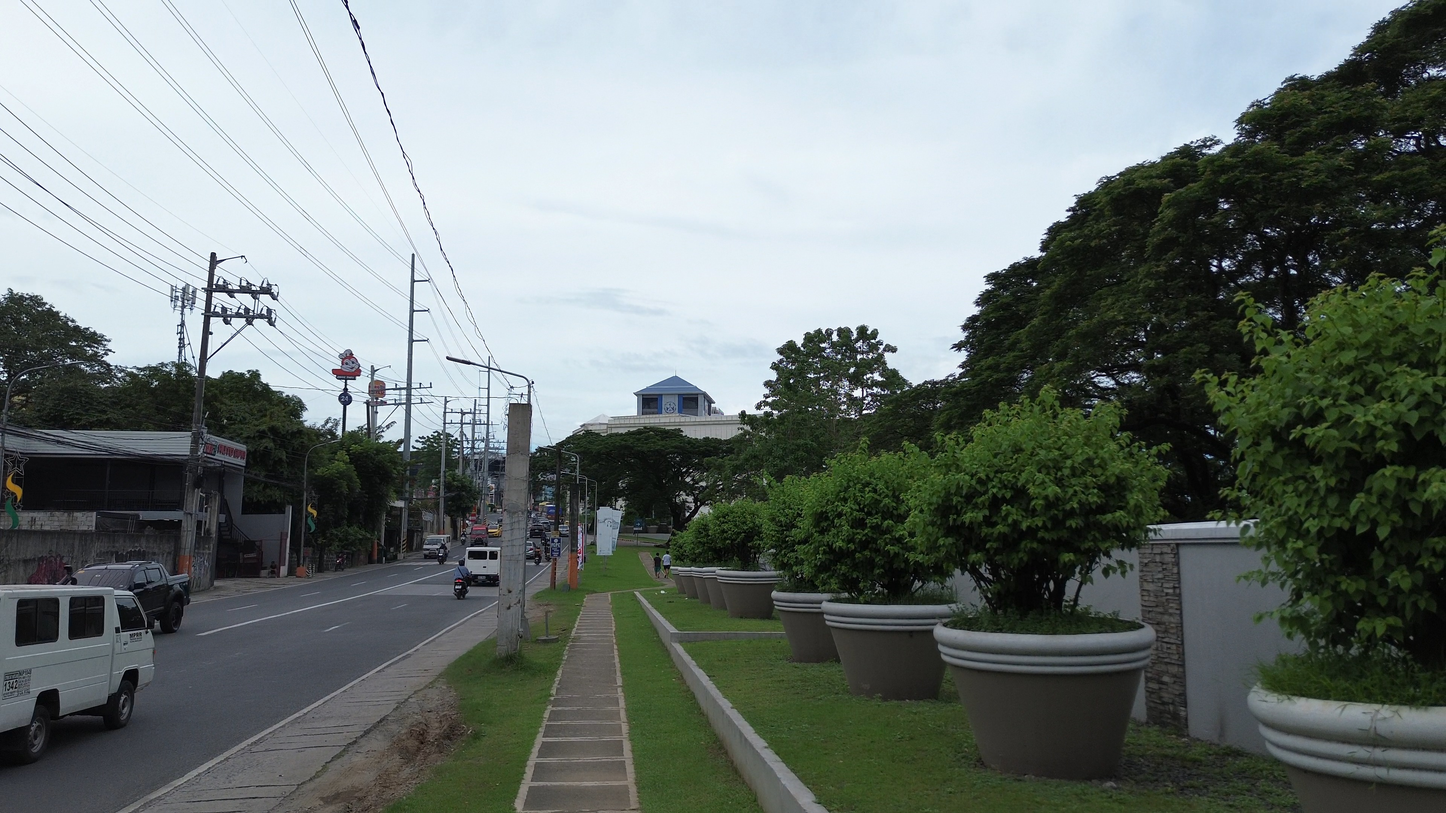motorcycle: (454, 577, 467, 600)
vehicle: (0, 586, 154, 763), (74, 561, 190, 633), (465, 546, 500, 585), (424, 535, 450, 558), (528, 524, 548, 539), (488, 524, 502, 537)
